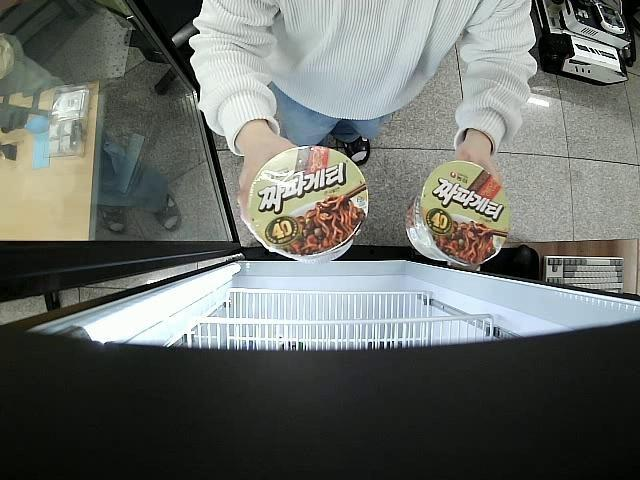03_chapagetti_L: (244, 145, 368, 264), (406, 160, 511, 265)
